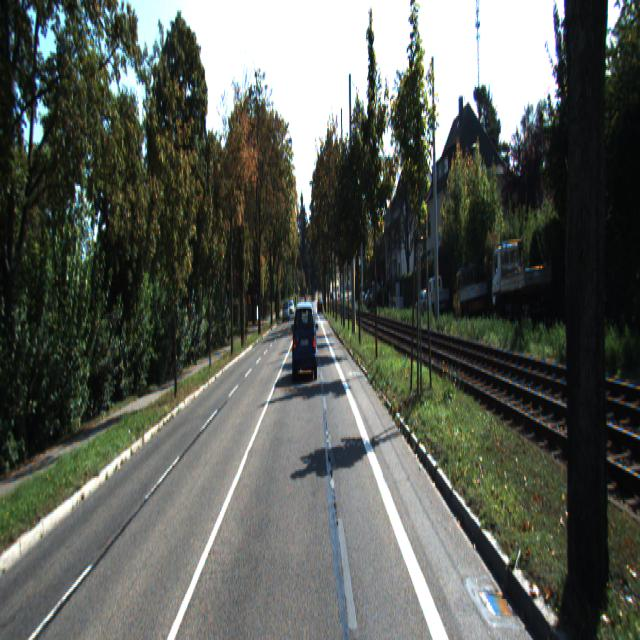Car: (491, 232, 552, 324), (291, 301, 318, 385), (452, 264, 488, 322), (426, 274, 449, 315), (416, 288, 434, 318)
